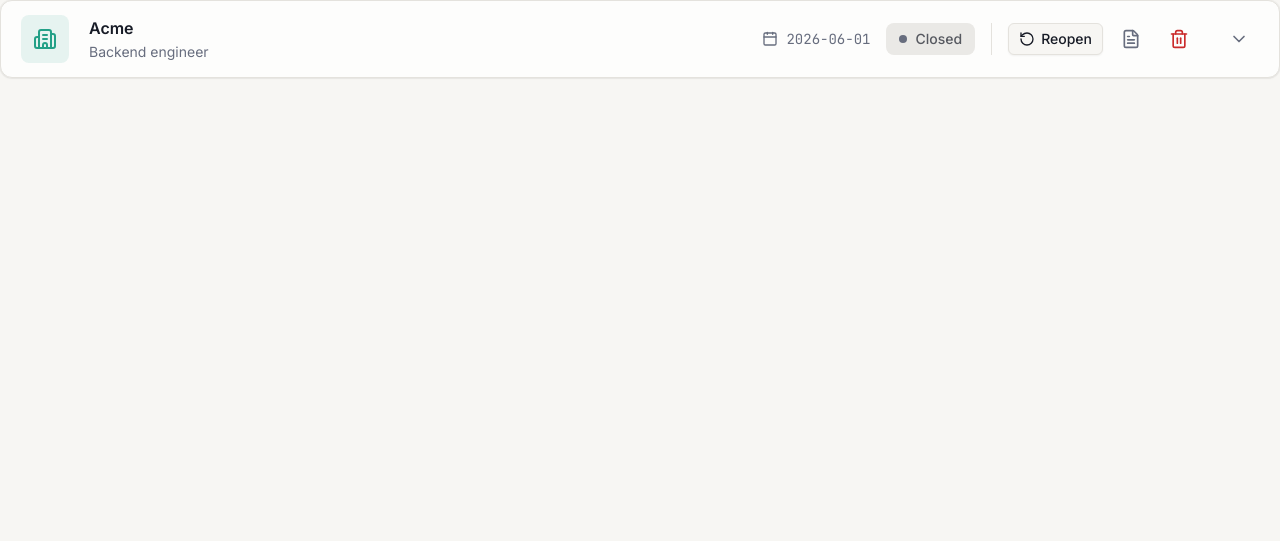
Test: ApplicationItem — closed application › expanding a closed application's timeline shows no Add event button
The image size is (1280, 541).
Note: Expand: click the row (any element inside the clickable header area).
Click the text "Backend engineer" at (149,52), box [89, 42, 209, 62]
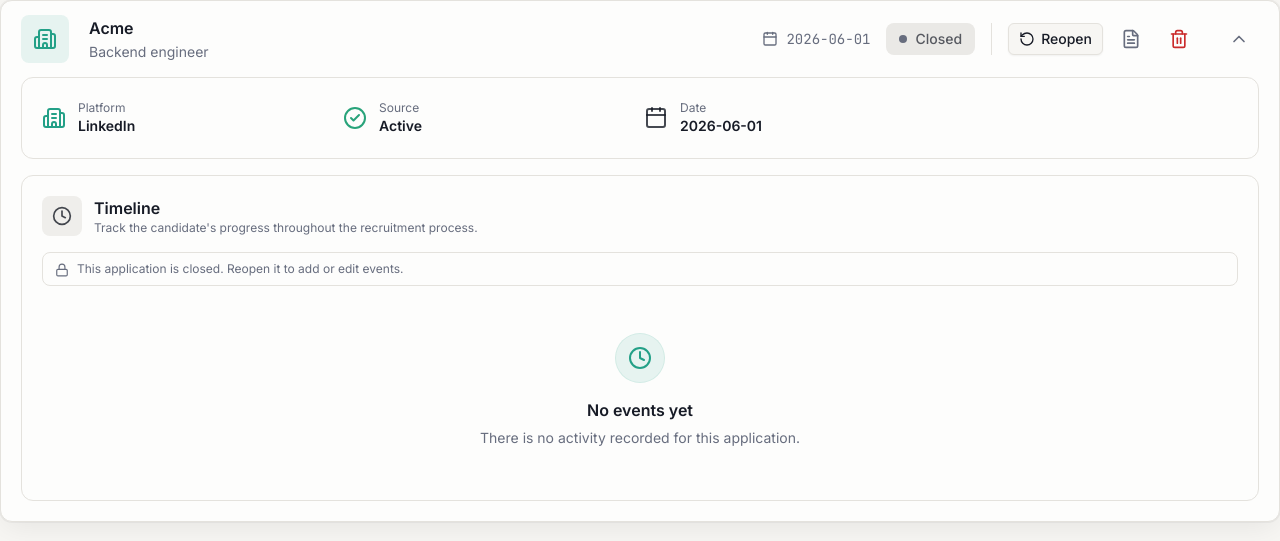
Check: the text "This application is closed. Reopen it to add or edit events." is shown, box [77, 261, 404, 277]
